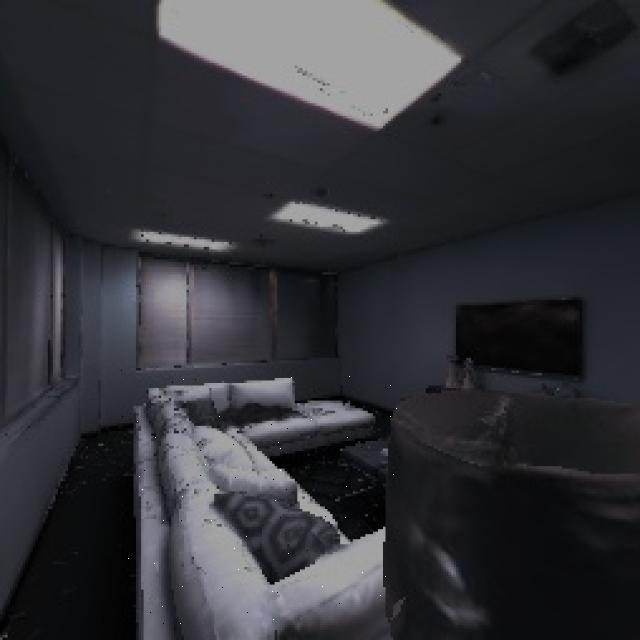sofa: (119, 360, 408, 640)
